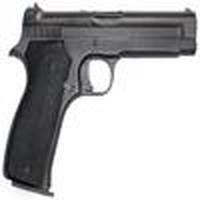gun: (2, 7, 200, 184)
